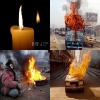fire: (68, 52, 92, 77), (64, 3, 85, 31), (25, 57, 46, 84), (18, 4, 24, 30)
